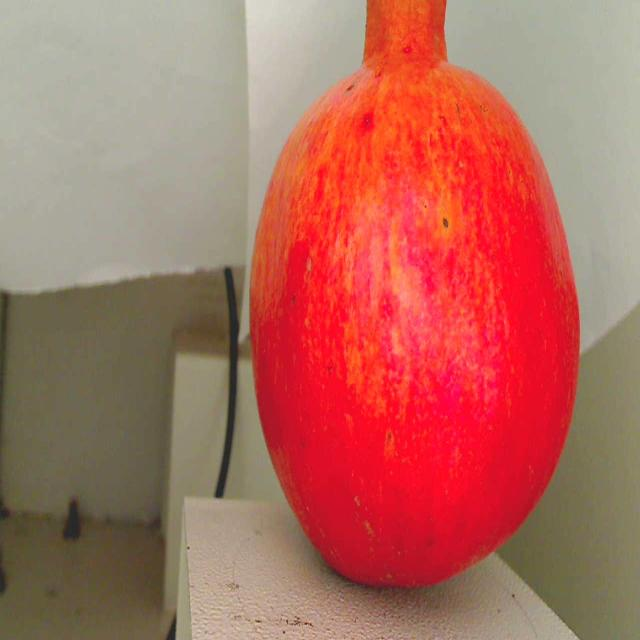pomegranate: (243, 0, 590, 605)
